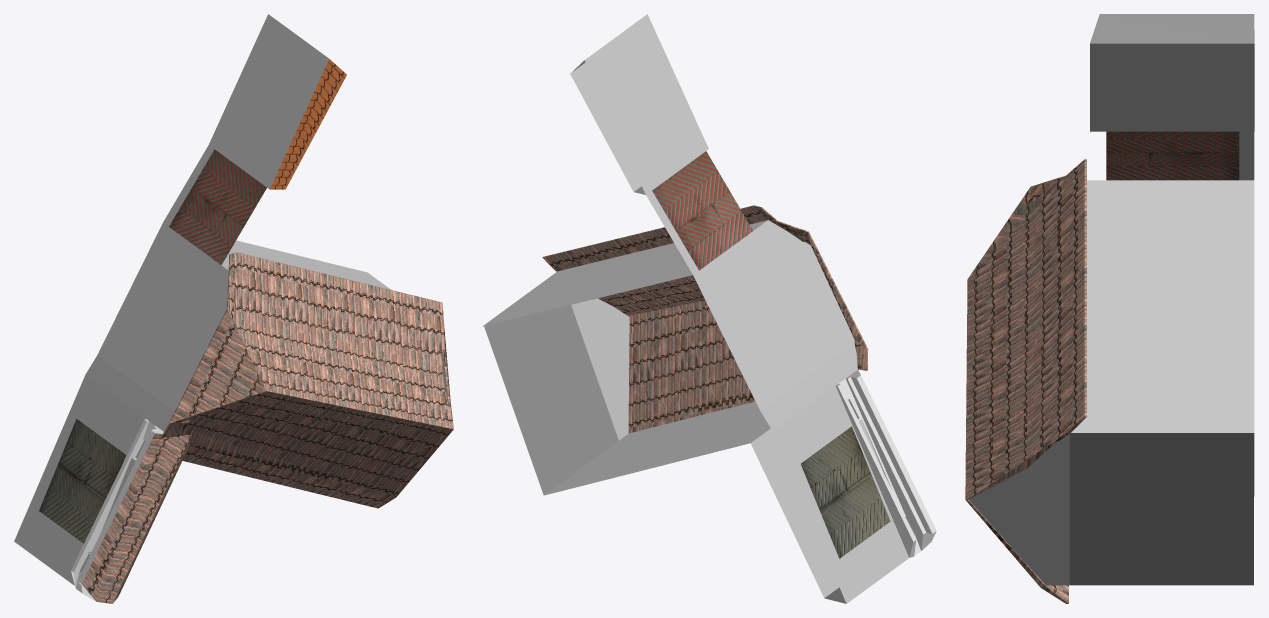
The model's file is Lai_36_b-origo.obj.
3 renders of one model, left to right at view 1: azimuth 30°, elevation 25°; view 2: azimuth 150°, elevation 25°; view 3: azimuth 270°, elevation 25°, orthographic. The views are drawn at different scales.
Parts seen in each view (by area): view 1: Lai_36_b; view 2: Lai_36_b; view 3: Lai_36_b.
Part boxes in pixels (x1=…): Lai_36_b: x1=14, y1=14, x2=453, y2=603; Lai_36_b: x1=482, y1=14, x2=936, y2=603; Lai_36_b: x1=965, y1=14, x2=1254, y2=603.
Size of the model in its own units: 11.69 by 14 by 6.23.
